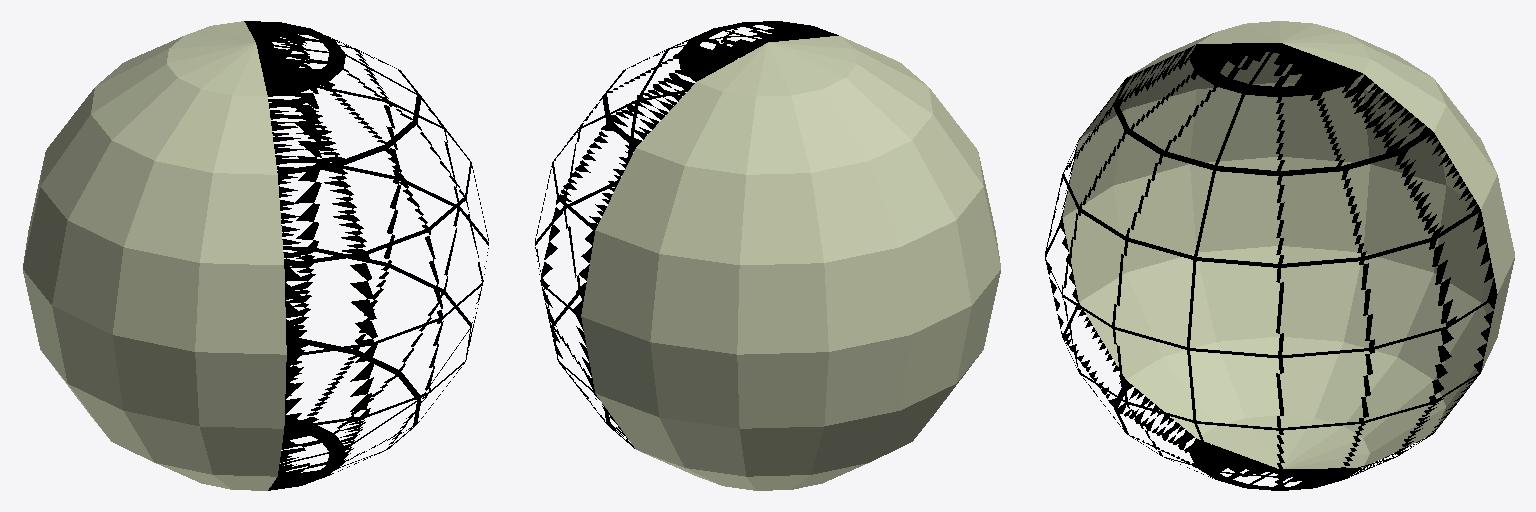
The picture shows the model from 3 angles: view 1: azimuth 30°, elevation 25°; view 2: azimuth 150°, elevation 25°; view 3: azimuth 270°, elevation 25°; orthographic projection.
Visible parts, largest first — view 1: sphere1; view 2: sphere1; view 3: sphere1.
Part boxes in pixels (bbox=[...]): sphere1: bbox=[23, 21, 488, 490]; sphere1: bbox=[535, 21, 1000, 490]; sphere1: bbox=[1045, 21, 1514, 490].
Bounding box in the file's own units: 1 × 1 × 1.
Materials: 2 (1 with a texture image).